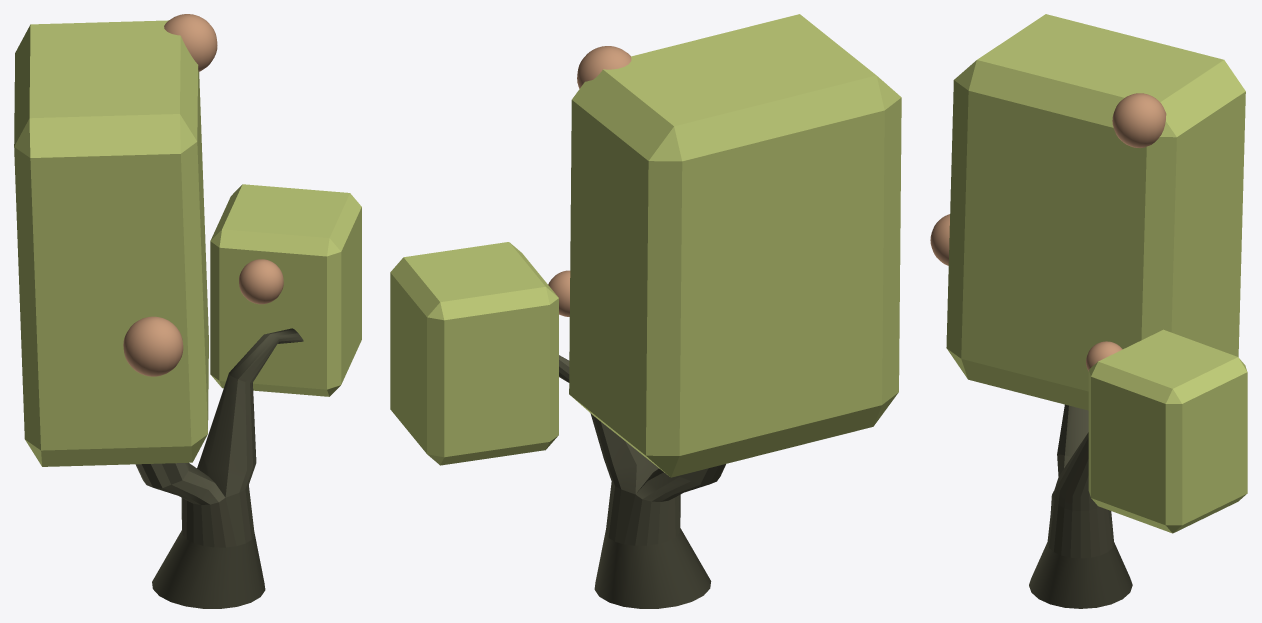
The model's file is Tree3Apple.fbx.
3 renders of one model, left to right at view 1: azimuth 30°, elevation 25°; view 2: azimuth 150°, elevation 25°; view 3: azimuth 270°, elevation 25°, orthographic. The views are drawn at different scales.
Visible parts, largest first — view 1: pasted__pCube42, pasted__pCube41, pasted__pasted__pCylinder4, ForEdit2:pSphere7, pSphere7, pSphere9; view 2: pasted__pCube42, pasted__pCube41, pasted__pasted__pCylinder4, pSphere7; view 3: pasted__pCube42, pasted__pCube41, pasted__pasted__pCylinder4, pSphere7, ForEdit2:pSphere7, pSphere9.
Part boxes in pixels (x1=…): pasted__pCube42: x1=14, y1=20, x2=208, y2=466; pasted__pCube41: x1=210, y1=184, x2=361, y2=396; pasted__pasted__pCylinder4: x1=135, y1=328, x2=303, y2=608; ForEdit2:pSphere7: x1=123, y1=316, x2=183, y2=376; pSphere7: x1=164, y1=14, x2=217, y2=71; pSphere9: x1=239, y1=259, x2=283, y2=304; pasted__pCube42: x1=569, y1=14, x2=901, y2=477; pasted__pCube41: x1=390, y1=242, x2=558, y2=465; pasted__pasted__pCylinder4: x1=559, y1=355, x2=725, y2=608; pSphere7: x1=577, y1=46, x2=631, y2=88; pasted__pCube42: x1=946, y1=14, x2=1245, y2=410; pasted__pCube41: x1=1088, y1=329, x2=1247, y2=533; pasted__pasted__pCylinder4: x1=1029, y1=404, x2=1132, y2=608; pSphere7: x1=1112, y1=93, x2=1166, y2=147; ForEdit2:pSphere7: x1=930, y1=214, x2=949, y2=265; pSphere9: x1=1086, y1=341, x2=1122, y2=371.
Bounding box in the file's own units: 2.84 × 3.6 × 2.09.
